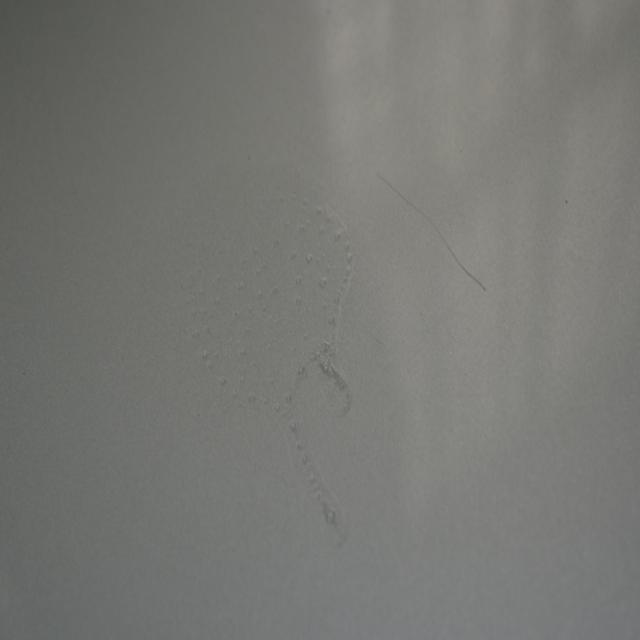dirt: (565, 197, 570, 207)
runs: (154, 168, 362, 554)
scratch: (371, 166, 492, 304)
